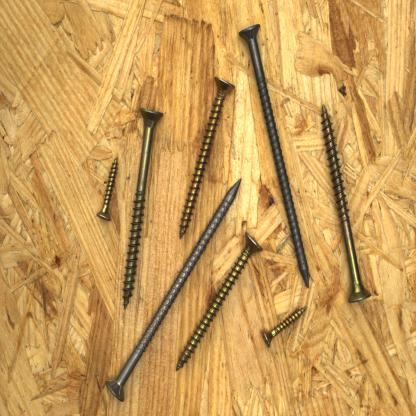screw: (102, 174, 244, 404), (235, 21, 312, 292), (173, 228, 266, 374), (319, 101, 374, 306), (177, 74, 238, 241), (121, 105, 166, 312), (259, 303, 310, 350), (93, 153, 122, 223)
